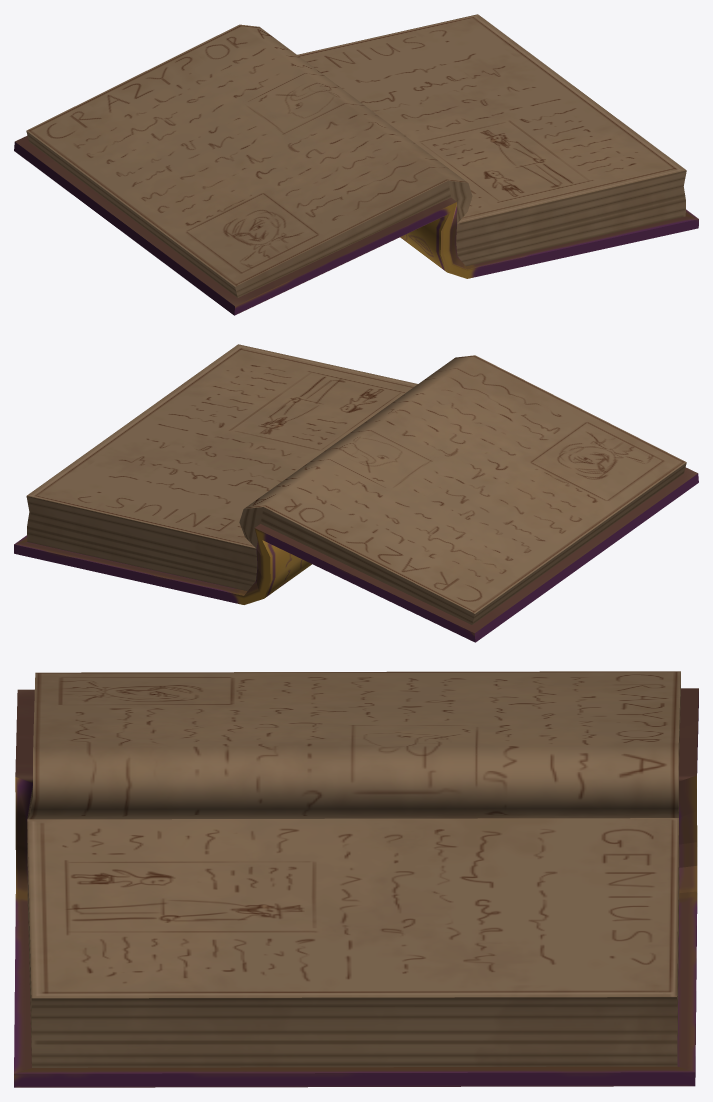
The model's file is Book_Open_Scaled.fbx.
3 renders of one model, top to bottom at view 1: azimuth 30°, elevation 25°; view 2: azimuth 150°, elevation 25°; view 3: azimuth 270°, elevation 25°, orthographic. The views are drawn at different scales.
Parts seen in each view (by area): view 1: BigBook_Open; view 2: BigBook_Open; view 3: BigBook_Open.
Boxes of the visible parts, x1,y1,x2,y2 form: BigBook_Open: [14, 14, 698, 315]; BigBook_Open: [14, 344, 698, 642]; BigBook_Open: [14, 671, 698, 1087].
Size of the model in its own units: 34.69 by 7.44 by 28.85.
